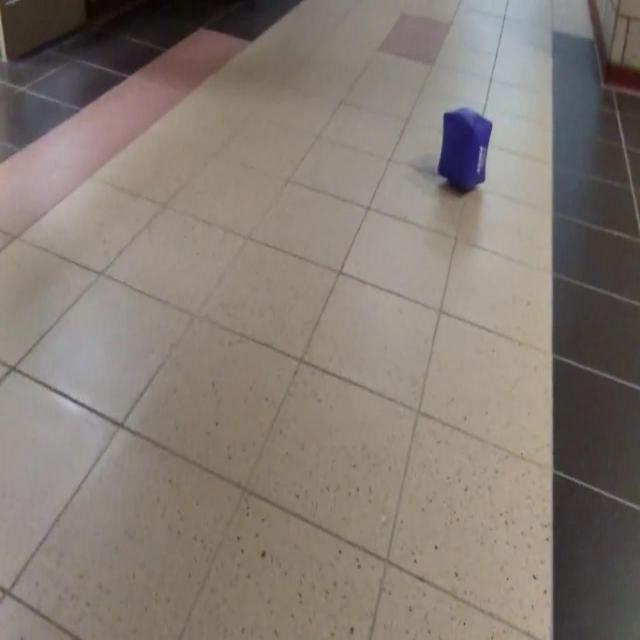frc_cube: (437, 107, 493, 193)
